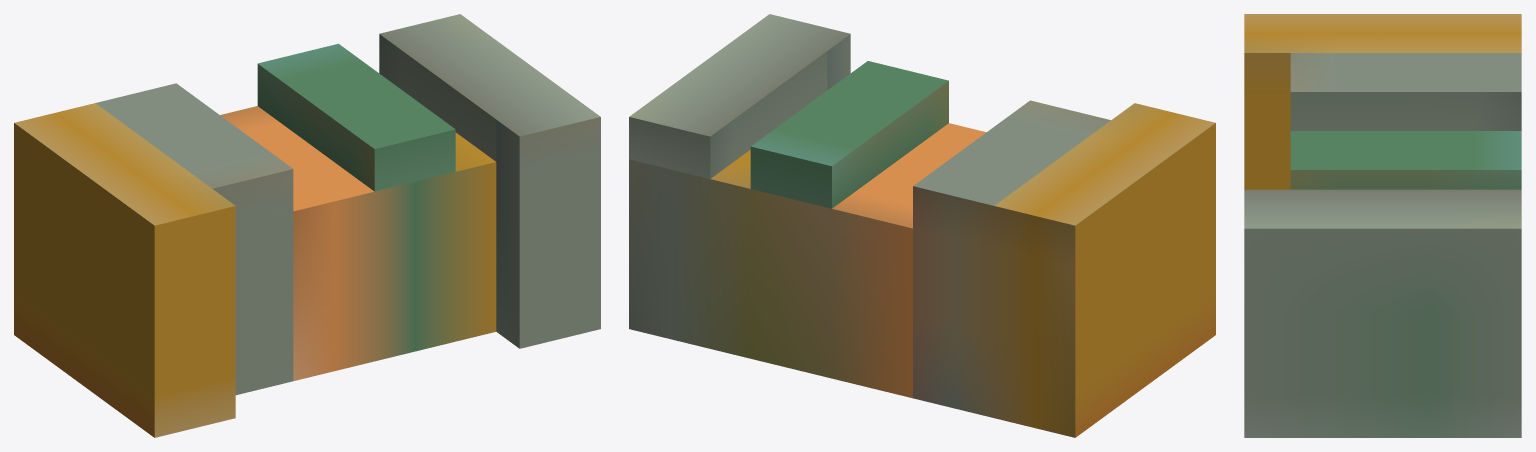
Rendered from AssortedBooks_C_01.obj.
3 views of the same model, side by side, from view 1: azimuth 30°, elevation 25°; view 2: azimuth 150°, elevation 25°; view 3: azimuth 270°, elevation 25° (orthographic).
Parts seen in each view (by area): view 1: AssortedBooks_C_01; view 2: AssortedBooks_C_01; view 3: AssortedBooks_C_01.
Part boxes in pixels (<box>): AssortedBooks_C_01: <box>14,14,600,437</box>; AssortedBooks_C_01: <box>629,14,1215,437</box>; AssortedBooks_C_01: <box>1244,14,1521,437</box>.
Bounding box in the file's own units: 0.55 × 0.25 × 0.3.
